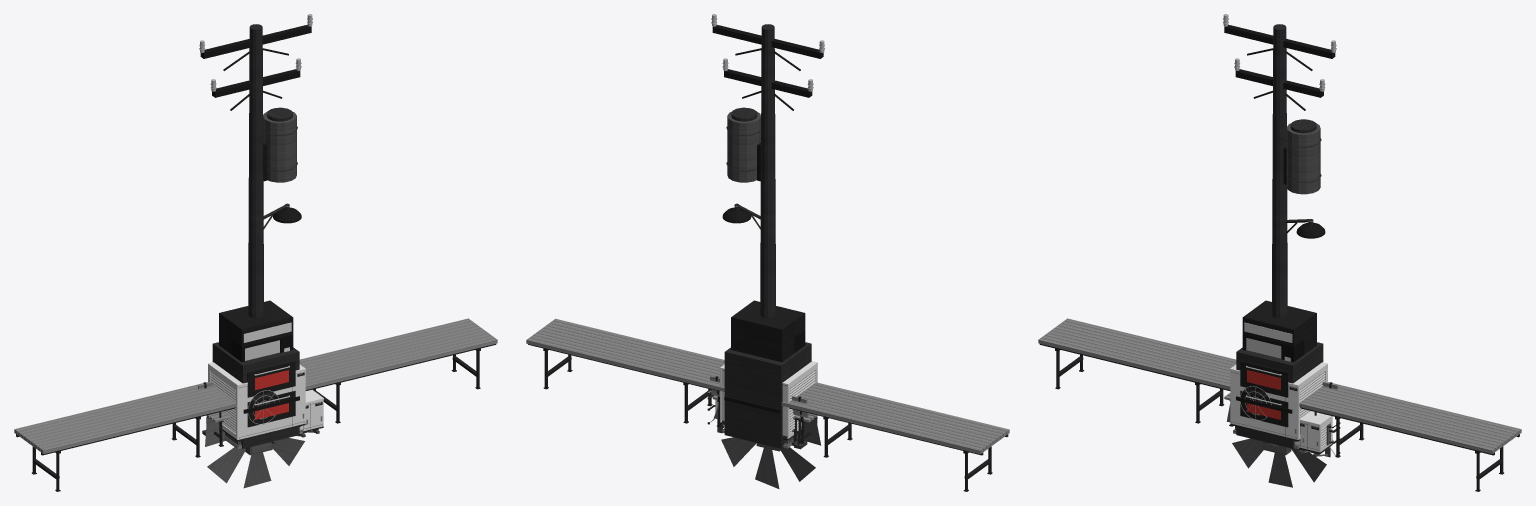
Rendered from market-DvE2Y8ED.glb.
The picture shows the model from 3 angles, left to right: view 1: azimuth 30°, elevation 25°; view 2: azimuth 150°, elevation 25°; view 3: azimuth 330°, elevation 25°; orthographic projection.
Visible parts, largest first — view 1: long_table__body, utility_pole__body, oven__body, ac_roof_l__body, vending__body, fan__body, oven__glow, ac_wide__body; view 2: long_table__body, utility_pole__body, oven__body, vending__body, fan__body, ac_roof_l__body, bench__body; view 3: long_table__body, utility_pole__body, oven__body, ac_roof_l__body, vending__body, fan__body, ac_wide__body, oven__glow, post_lamp__body.
Part boxes in pixels (x1,y1,x2,y2): long_table__body: (14,318,497,491); utility_pole__body: (199,14,312,318); oven__body: (212,342,299,448); ac_roof_l__body: (202,362,305,449); vending__body: (219,300,293,362); fan__body: (205,418,304,488); oven__glow: (255,370,288,419); ac_wide__body: (299,390,323,433); long_table__body: (526,318,1009,491); utility_pole__body: (711,14,824,318); oven__body: (724,342,811,448); vending__body: (731,300,805,362); fan__body: (714,405,821,488); ac_roof_l__body: (720,361,817,449); bench__body: (710,376,817,443); long_table__body: (1038,318,1521,491); utility_pole__body: (1223,14,1336,318); oven__body: (1236,342,1323,448); ac_roof_l__body: (1230,362,1327,449); vending__body: (1242,300,1316,362); fan__body: (1226,403,1333,487); ac_wide__body: (1294,412,1340,457); oven__glow: (1247,370,1280,419); post_lamp__body: (1285,219,1325,238).
Bounding box in the file's own units: 8 × 7.73 × 1.
1 material, 1 textured.
